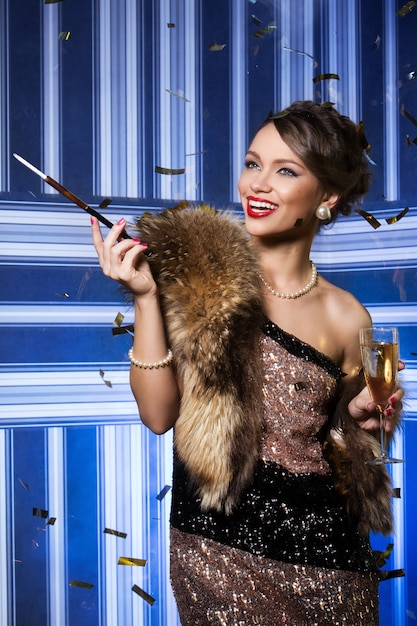alcohol: (357, 326, 405, 467)
cigarette: (10, 152, 49, 180)
